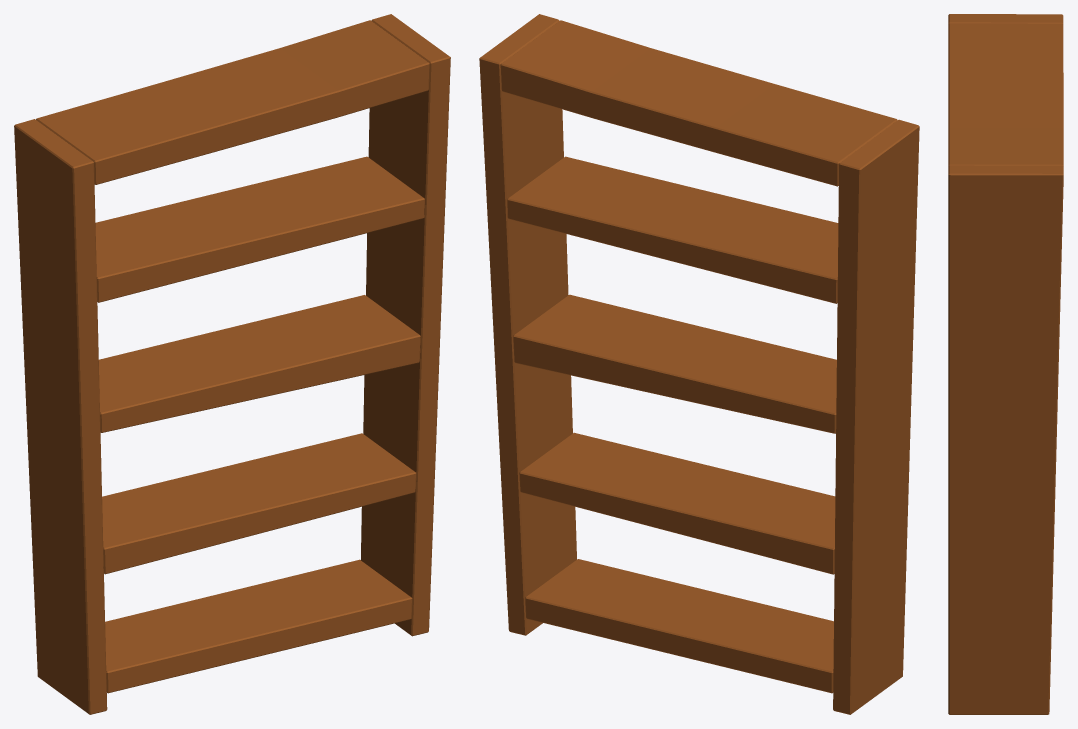
File: Bookcase.fbx
The picture shows the model from 3 angles, left to right: view 1: azimuth 30°, elevation 25°; view 2: azimuth 150°, elevation 25°; view 3: azimuth 270°, elevation 25°; orthographic projection. The views are drawn at different scales.
Parts seen in each view (by area): view 1: Bookcase; view 2: Bookcase; view 3: Bookcase.
Part boxes in pixels (x1=…): Bookcase: x1=14, y1=14, x2=450, y2=714; Bookcase: x1=479, y1=14, x2=919, y2=714; Bookcase: x1=948, y1=14, x2=1063, y2=714.
Size of the model in its own units: 1.52 by 2.19 by 0.4154.
